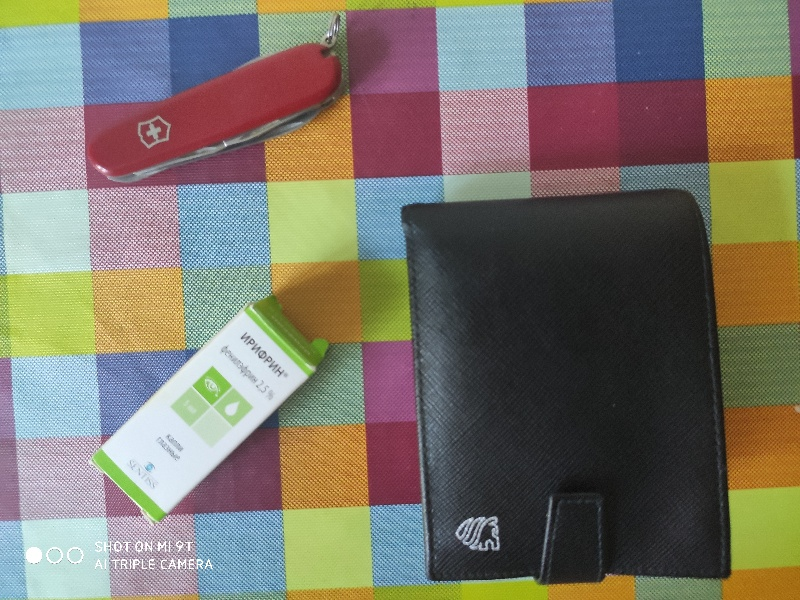ifrin: (81, 285, 335, 535)
knife: (75, 68, 375, 185)
wallet: (381, 168, 758, 588)
